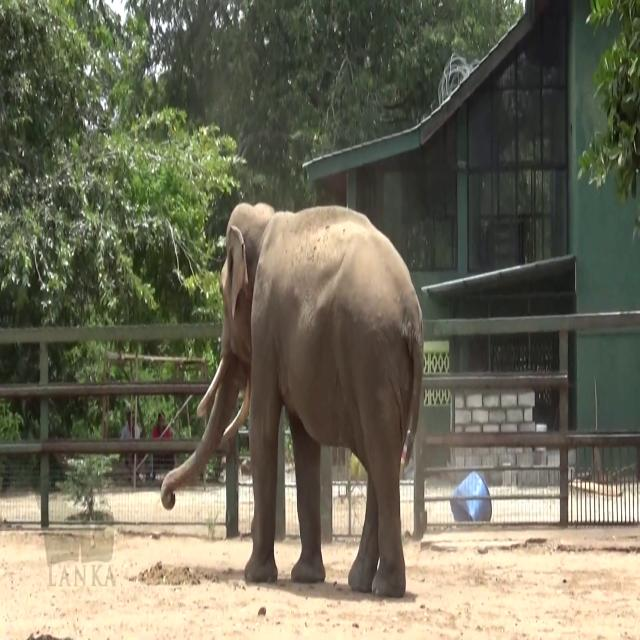Elephant: (162, 200, 424, 598)
person: (119, 405, 143, 481), (151, 411, 175, 480)
